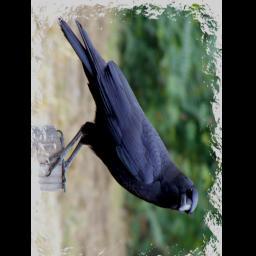Crow: (43, 12, 199, 219)
